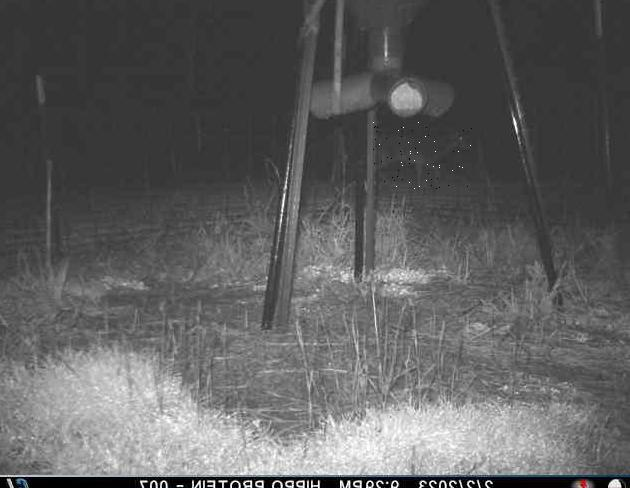Deer: (372, 121, 472, 189)
